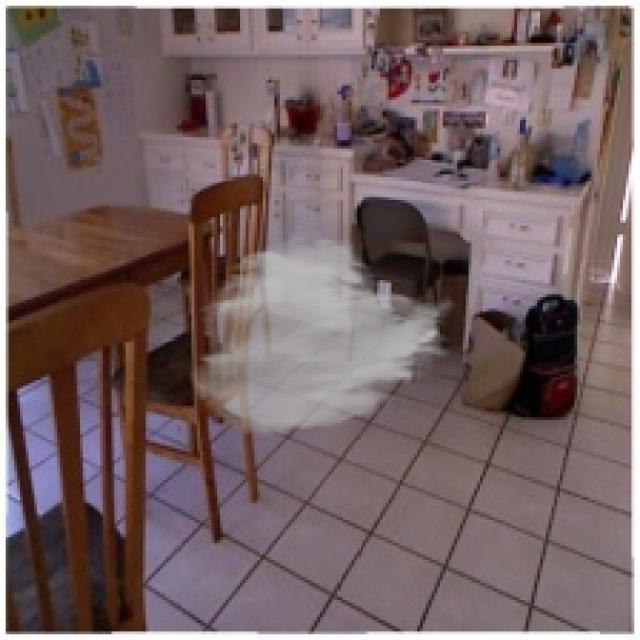Smoke: (185, 234, 460, 437)
